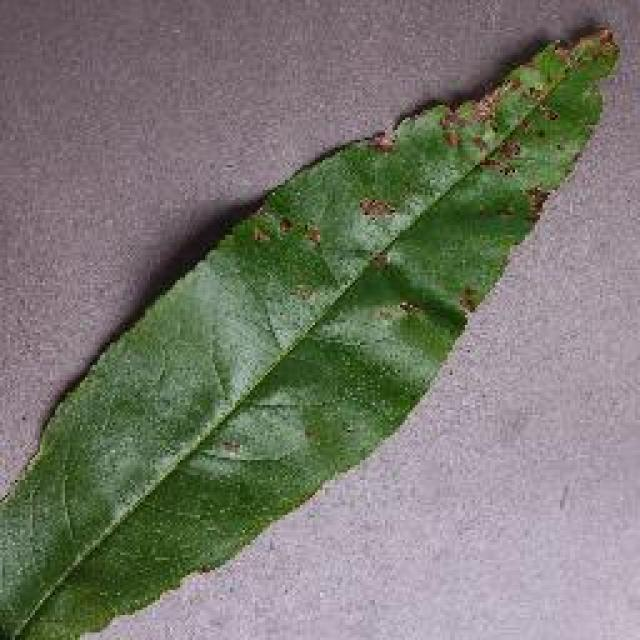Peach_Bacterial_Spot: (312, 35, 586, 353)
